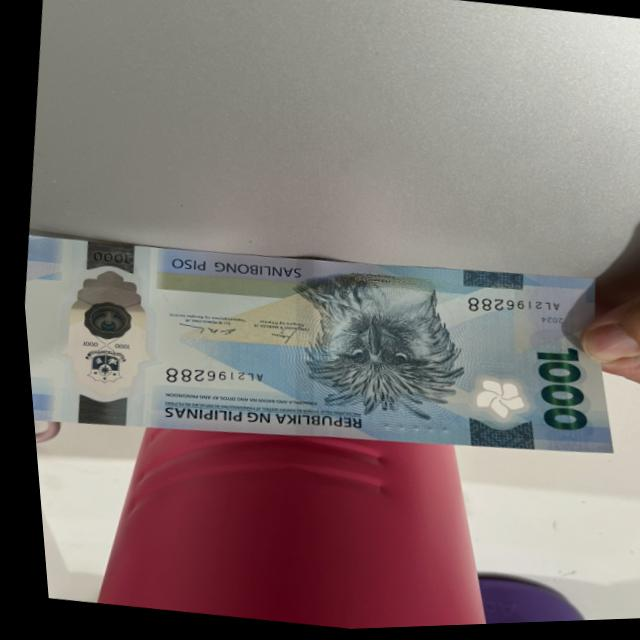clear_window: (30, 264, 157, 413)
eagle: (272, 264, 467, 437)
sampaguita: (460, 379, 524, 425)
